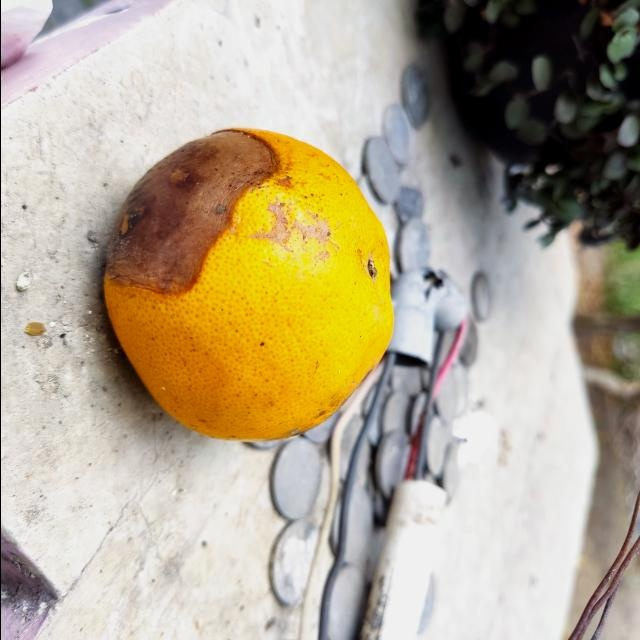agrume: (100, 121, 396, 445)
